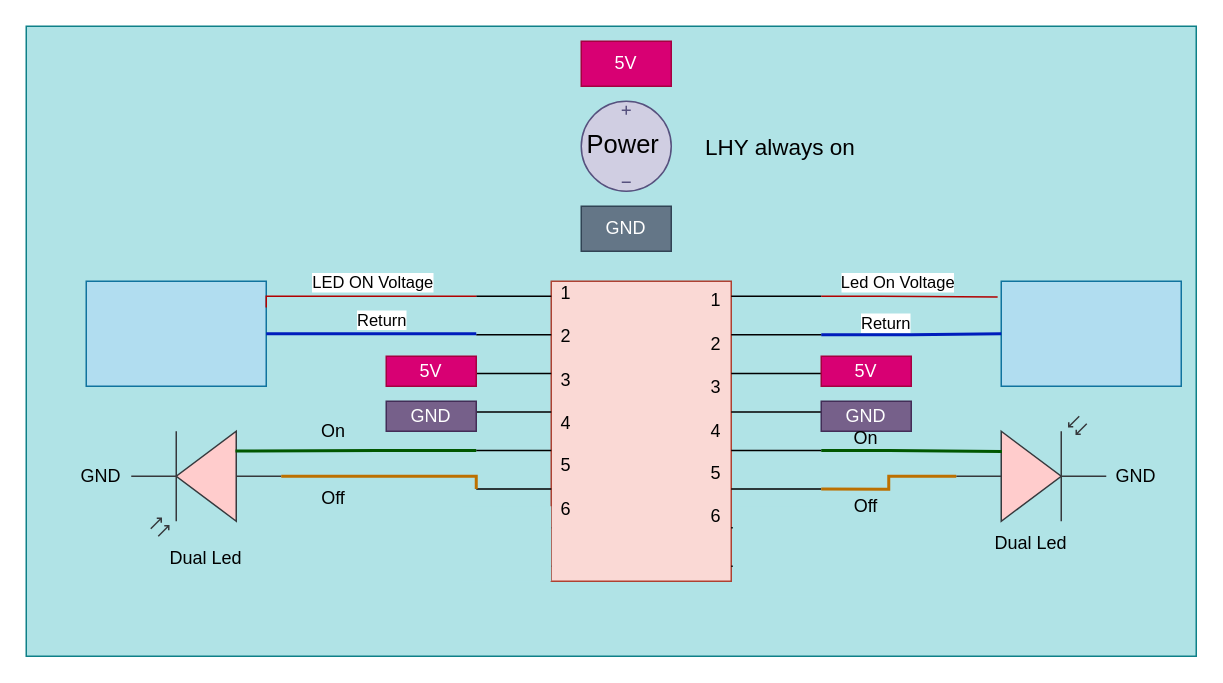
The diagram is 1223 pixels wide and 683 high, and some of its shapes have lost their labels. The shapes that lost their labels are listed below. From the top down, each one's box as (x1, y1, x2, y2) in pixels, then its label:
(85, 280, 266, 386): UCPure 3V3
(1000, 280, 1181, 386): UCPURE 5V
(550, 280, 731, 581): LED Indicator Board
